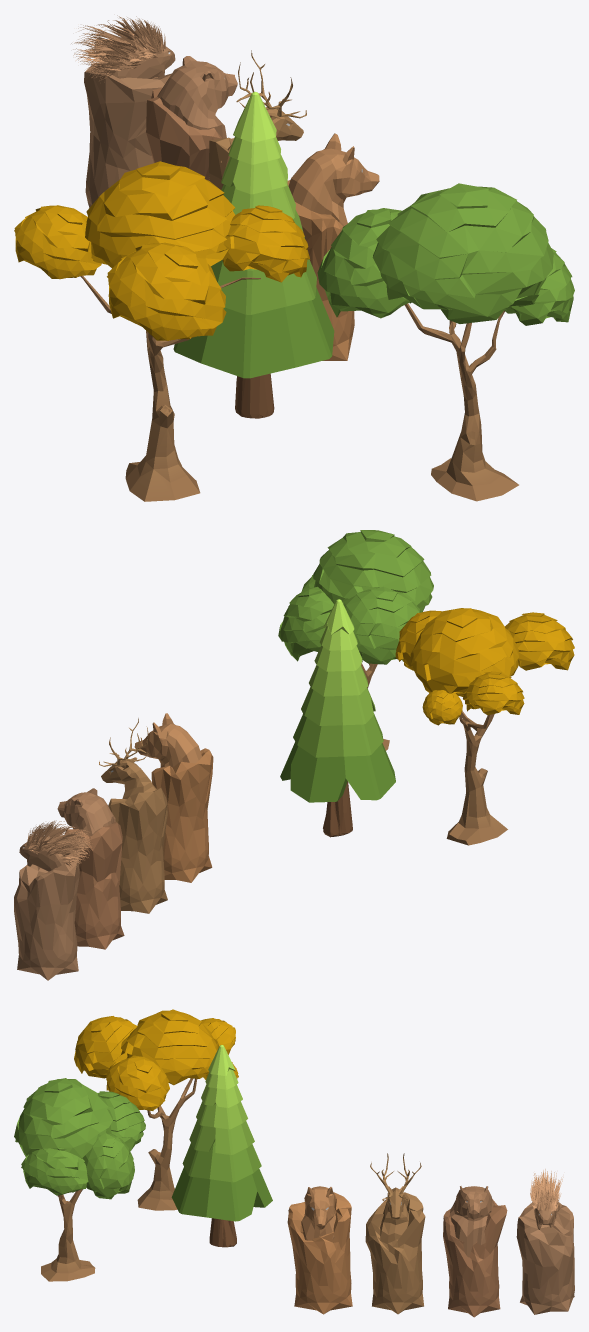
The model's file is blender Propsss.fbx.
The picture shows the model from 3 angles, top to bottom: view 1: azimuth 30°, elevation 25°; view 2: azimuth 150°, elevation 25°; view 3: azimuth 270°, elevation 25°; orthographic projection. The views are drawn at different scales.
Visible parts, largest first — view 1: Cube.005, Cube.004, Cylinder, Icosphere.008, Icosphere.005, Icosphere.007, Icosphere.006; view 2: Cube.005, Cylinder, Cube.004, Icosphere.008, Icosphere.007, Icosphere.006, Icosphere.005; view 3: Cube.004, Cube.005, Cylinder, Icosphere.007, Icosphere.008, Icosphere.005, Icosphere.006.
Boxes of the visible parts, bbox=[...] form: Cube.005: bbox=[14, 161, 309, 501]; Cube.004: bbox=[317, 183, 574, 501]; Cylinder: bbox=[173, 92, 334, 418]; Icosphere.008: bbox=[71, 15, 175, 207]; Icosphere.005: bbox=[146, 56, 237, 180]; Icosphere.007: bbox=[287, 133, 379, 360]; Icosphere.006: bbox=[209, 50, 306, 189]; Cube.005: bbox=[395, 608, 574, 845]; Cylinder: bbox=[280, 599, 395, 837]; Cube.004: bbox=[278, 530, 433, 750]; Icosphere.008: bbox=[14, 820, 93, 980]; Icosphere.007: bbox=[134, 713, 213, 882]; Icosphere.006: bbox=[99, 718, 167, 913]; Icosphere.005: bbox=[57, 788, 124, 949]; Cube.004: bbox=[14, 1078, 145, 1281]; Cube.005: bbox=[74, 1009, 238, 1210]; Cylinder: bbox=[171, 1045, 272, 1247]; Icosphere.007: bbox=[287, 1186, 352, 1314]; Icosphere.008: bbox=[516, 1169, 574, 1314]; Icosphere.005: bbox=[443, 1186, 507, 1317]; Icosphere.006: bbox=[365, 1153, 425, 1314].
Bounding box in the file's own units: 24865 × 19402 × 43712.
2 materials, 1 textured.
